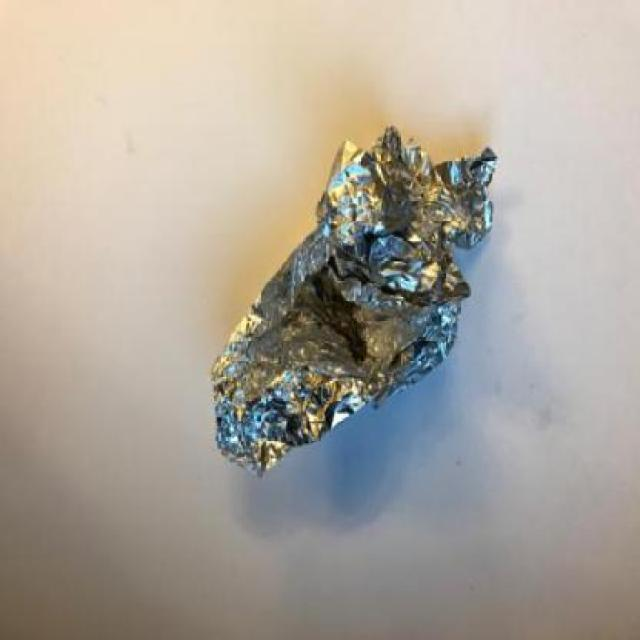METAL: (210, 126, 499, 480)
